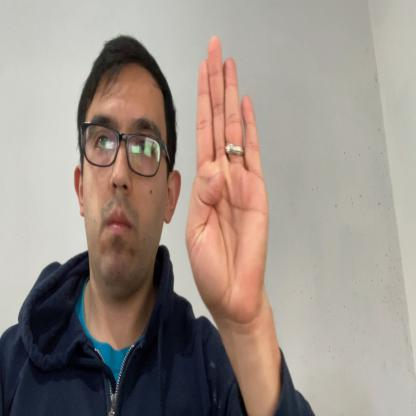B: (186, 34, 271, 322)
